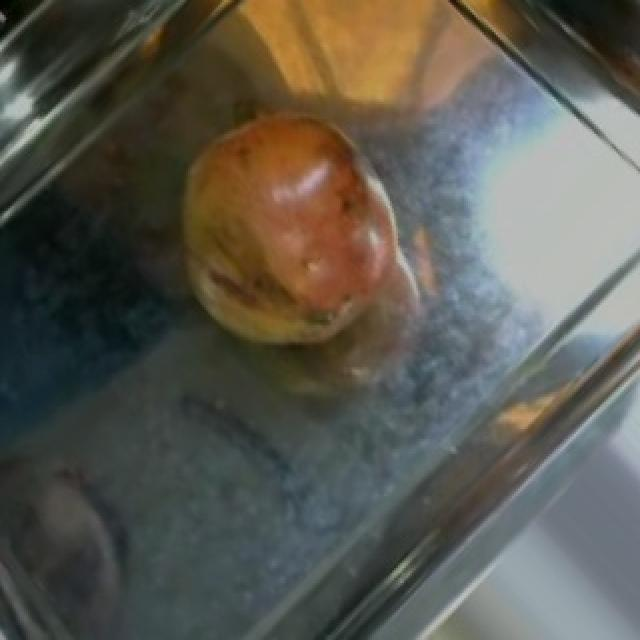fruit: (142, 87, 410, 372)
